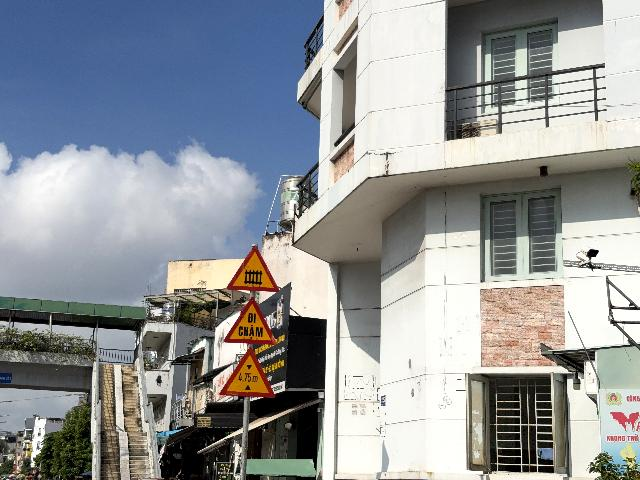chieu-cao-tinh-khong-thuc-te: (220, 347, 276, 398)
di-cham: (223, 297, 278, 345)
noi-giao-nhau-voi-duong-sat-co-rao-chan: (226, 246, 279, 292)
